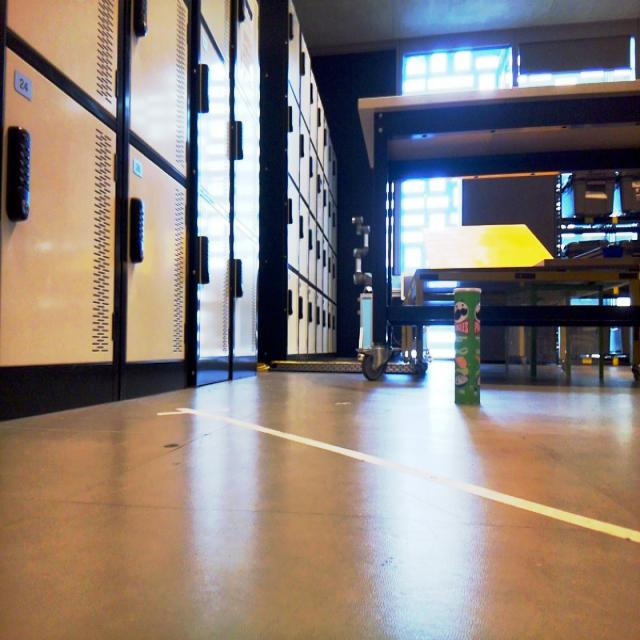greenpringles: (445, 272, 487, 426)
